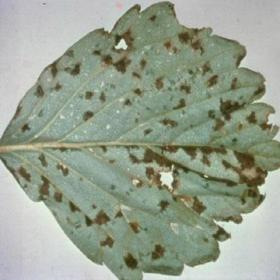Angular Leafspot: (0, 1, 279, 279)
